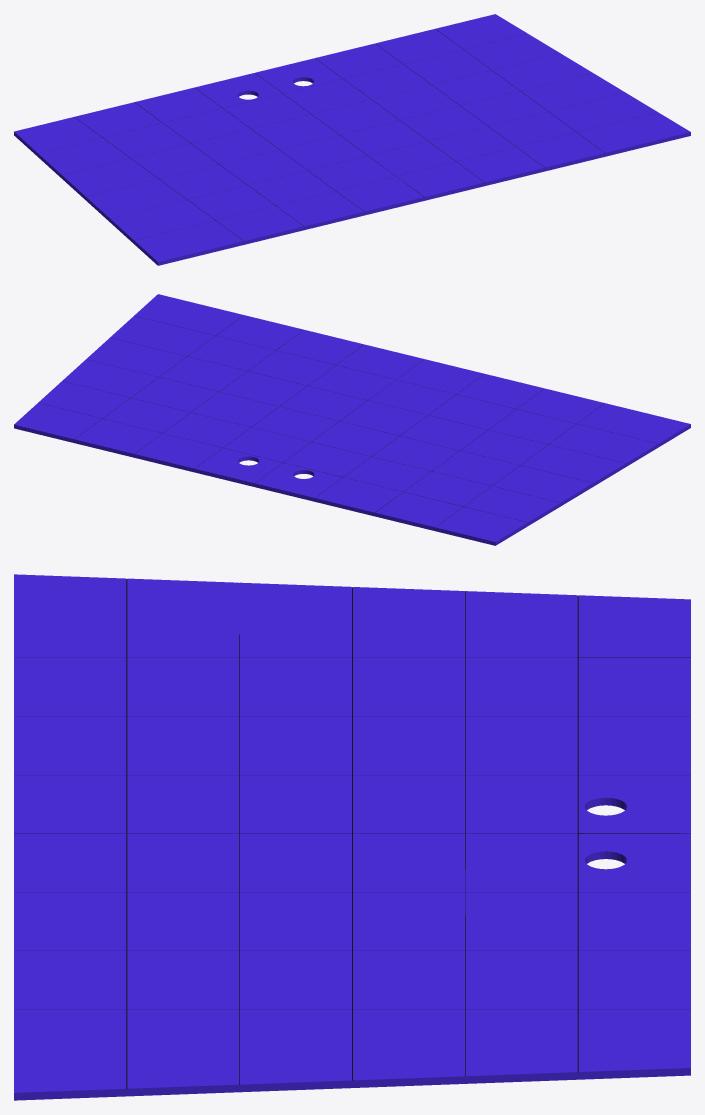
File: solar_panel_dark_blue.dae
3 renders of one model, top to bottom at view 1: azimuth 30°, elevation 25°; view 2: azimuth 150°, elevation 25°; view 3: azimuth 270°, elevation 25°, orthographic. The views are drawn at different scales.
Visible parts, largest first — view 1: node; view 2: node; view 3: node.
Boxes of the visible parts, bbox=[...] form: node: bbox=[14, 14, 690, 265]; node: bbox=[14, 294, 690, 545]; node: bbox=[14, 574, 690, 1100].
Bounding box in the file's own units: 1.45 × 0.8 × 0.01.
